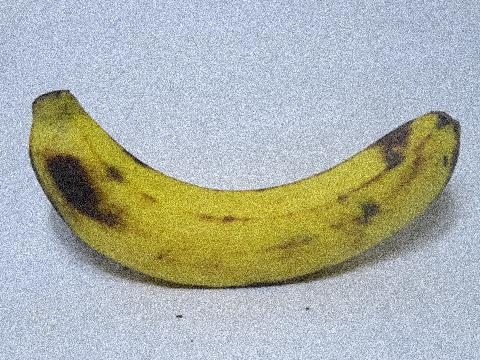ripe: (13, 70, 474, 306)
